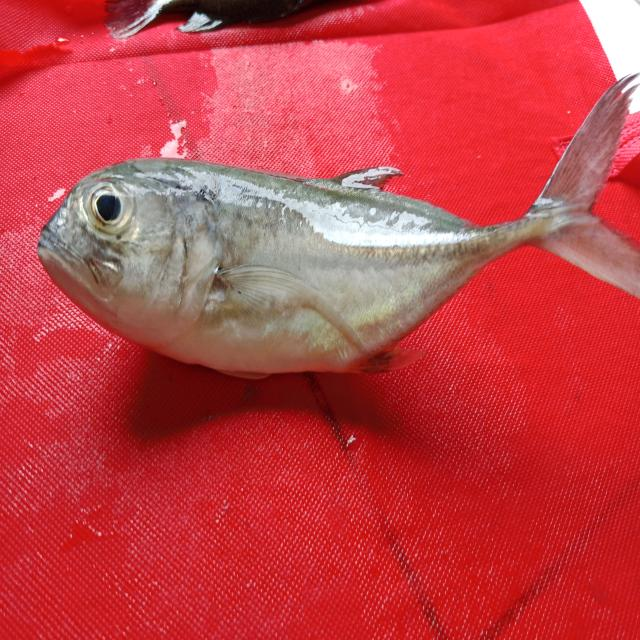ikan: (31, 64, 632, 391)
